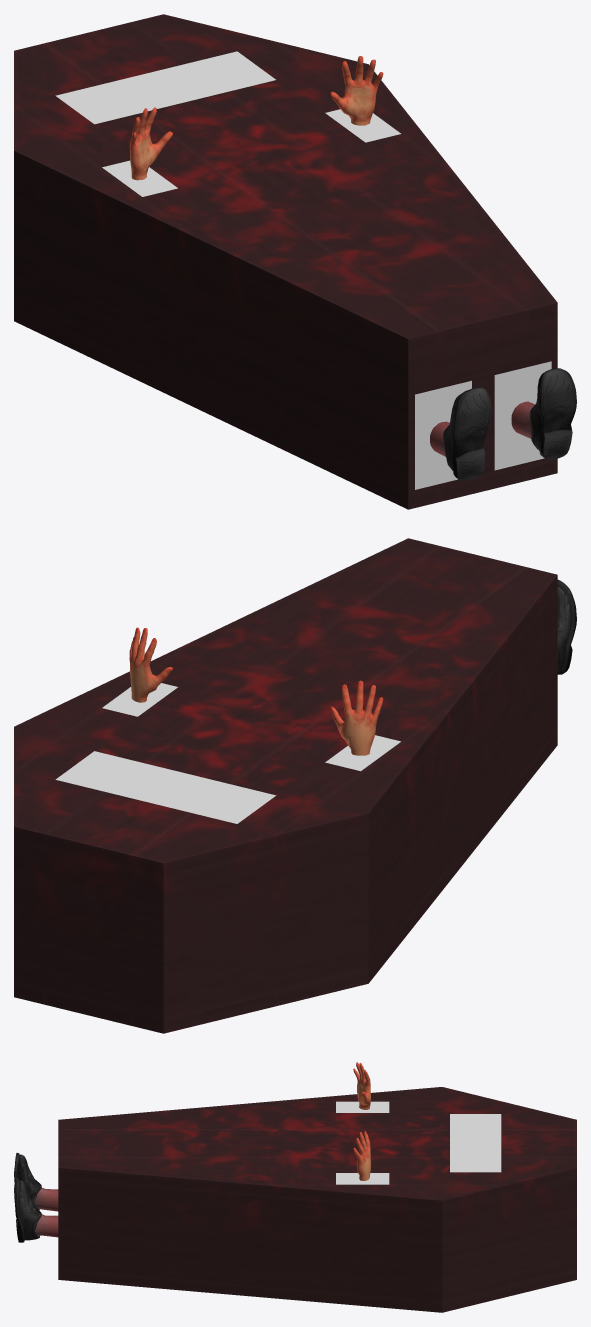
The model's file is Coffin_3.fbx.
3 renders of one model, top to bottom at view 1: azimuth 30°, elevation 25°; view 2: azimuth 150°, elevation 25°; view 3: azimuth 270°, elevation 25°, orthographic. The views are drawn at different scales.
Parts seen in each view (by area): view 1: Coffin_3; view 2: Coffin_3; view 3: Coffin_3.
Part boxes in pixels (x1=…): Coffin_3: x1=14, y1=14, x2=576, y2=509; Coffin_3: x1=14, y1=538, x2=576, y2=1033; Coffin_3: x1=14, y1=1062, x2=576, y2=1312.
Size of the model in its own units: 1.02 by 0.6634 by 2.14.
